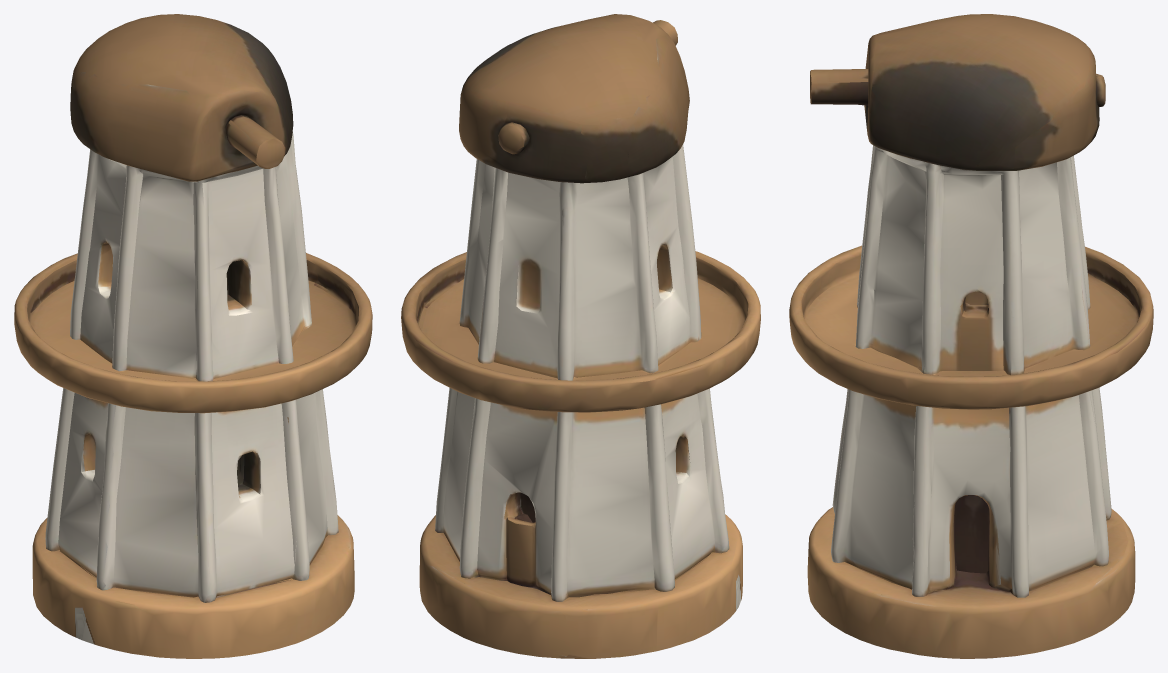
Rendered from windmill-body.glb.
The picture shows the model from 3 angles, left to right: view 1: azimuth 30°, elevation 25°; view 2: azimuth 150°, elevation 25°; view 3: azimuth 270°, elevation 25°; orthographic projection.
Parts seen in each view (by area): view 1: dutch-windmill; view 2: dutch-windmill; view 3: dutch-windmill.
Part boxes in pixels (<box>): dutch-windmill: <box>14,14,372,658</box>; dutch-windmill: <box>401,14,760,658</box>; dutch-windmill: <box>789,14,1153,658</box>.
Bounding box in the file's own units: 3.8 × 6.5 × 3.84.
Materials: 1 (1 with a texture image).
